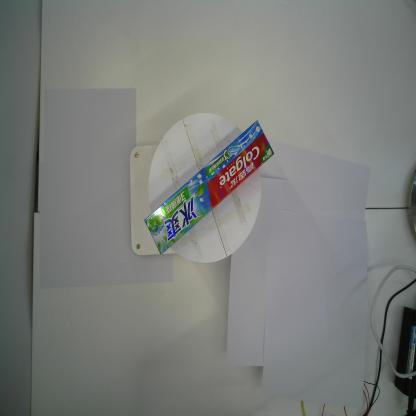Personal Hygiene: (144, 118, 276, 258)
